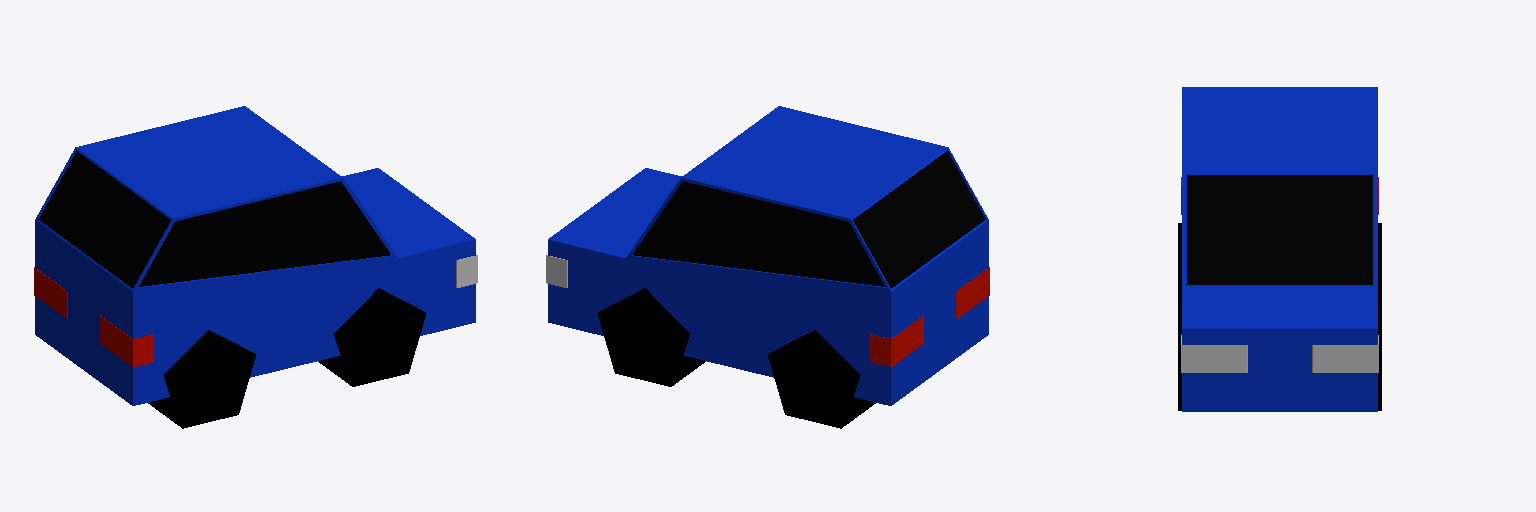
File: lowpolycar.obj
The picture shows the model from 3 angles: view 1: azimuth 30°, elevation 25°; view 2: azimuth 150°, elevation 25°; view 3: azimuth 270°, elevation 25°; orthographic projection.
Parts seen in each view (by area): view 1: Cube; view 2: Cube; view 3: Cube.
Part boxes in pixels (x1,y1,x2,y2): Cube: (34,106,477,428); Cube: (546,106,989,428); Cube: (1178,87,1381,411).
Size of the model in its own units: 4.98 by 2.89 by 2.55.